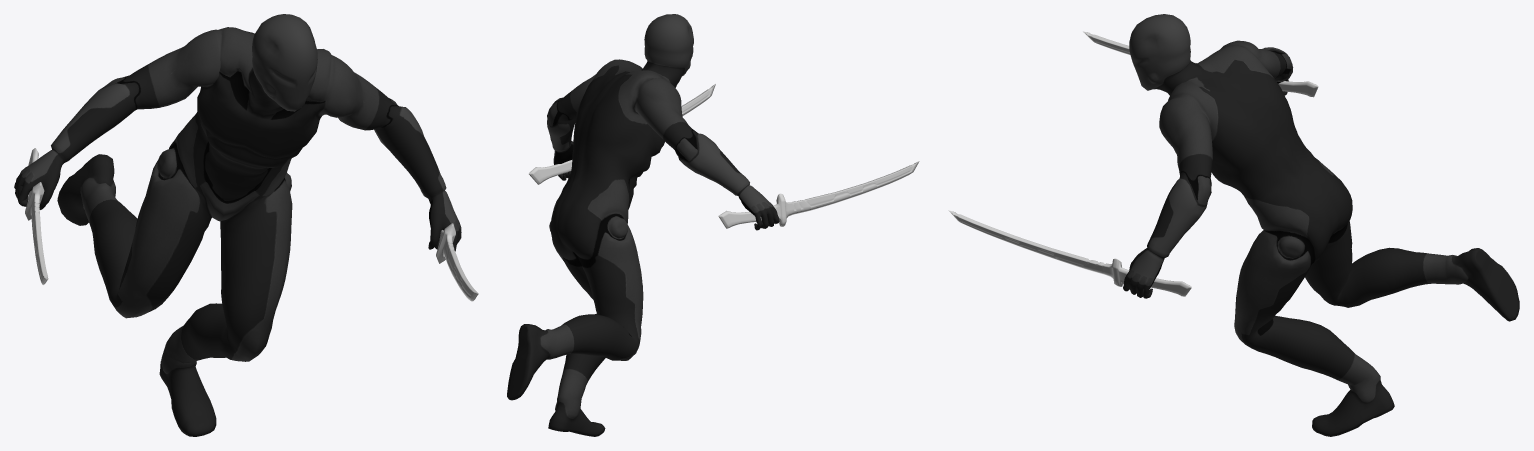
3 renders of one model, left to right at view 1: azimuth 30°, elevation 25°; view 2: azimuth 150°, elevation 25°; view 3: azimuth 270°, elevation 25°, orthographic. The views are drawn at different scales.
Parts seen in each view (by area): view 1: Cyborg_Ninja_Killer, Sword_l001, Sword_l; view 2: Cyborg_Ninja_Killer, Sword_l001, Sword_l; view 3: Cyborg_Ninja_Killer, Sword_l, Sword_l001.
Boxes of the visible parts, left/top/right/bottom form: Cyborg_Ninja_Killer: left=14, top=14, right=461, bottom=436; Sword_l001: left=25, top=148, right=48, bottom=284; Sword_l: left=436, top=223, right=478, bottom=301; Cyborg_Ninja_Killer: left=507, top=14, right=779, bottom=436; Sword_l001: left=718, top=161, right=919, bottom=228; Sword_l: left=529, top=84, right=715, bottom=184; Cyborg_Ninja_Killer: left=1123, top=14, right=1519, bottom=436; Sword_l: left=948, top=210, right=1191, bottom=296; Sword_l001: left=1083, top=31, right=1318, bottom=97.
Size of the model in its own units: 148 by 151 by 191.
